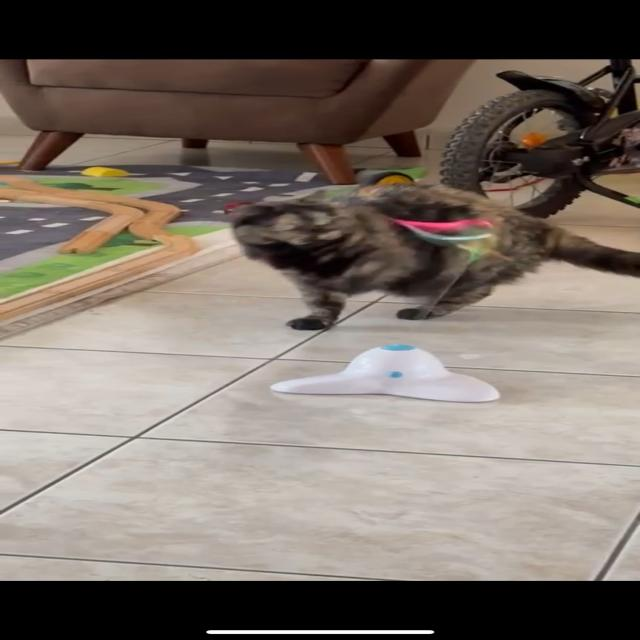authorized: (222, 181, 638, 331)
